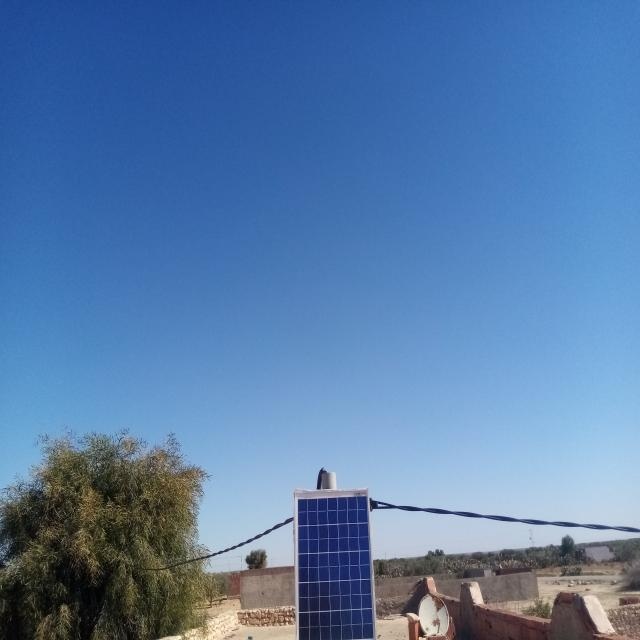no faulty: (295, 489, 377, 640)
